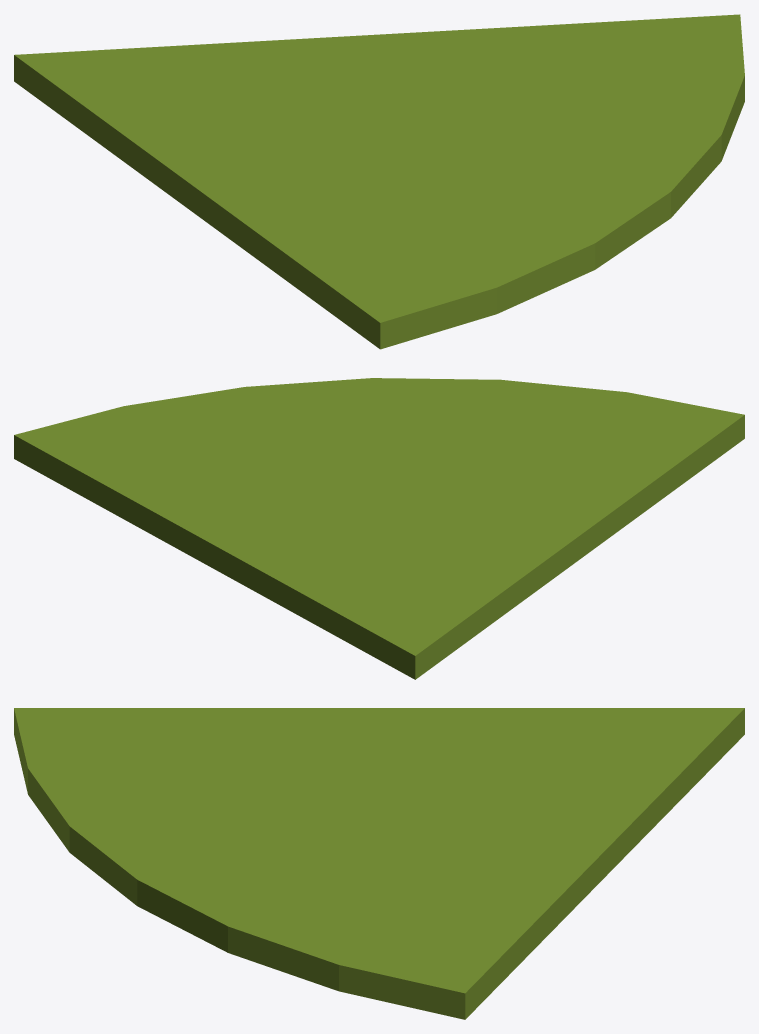
Rendered from forest_6.glb.
The picture shows the model from 3 angles, top to bottom: view 1: azimuth 30°, elevation 25°; view 2: azimuth 150°, elevation 25°; view 3: azimuth 270°, elevation 25°; orthographic projection. The views are drawn at different scales.
Visible parts, largest first — view 1: Cylinder; view 2: Cylinder; view 3: Cylinder.
Part boxes in pixels (x1=…): Cylinder: x1=14, y1=14, x2=744, y2=349; Cylinder: x1=14, y1=378, x2=744, y2=679; Cylinder: x1=14, y1=708, x2=744, y2=1019.
Size of the model in its own units: 92.39 by 4 by 100.
